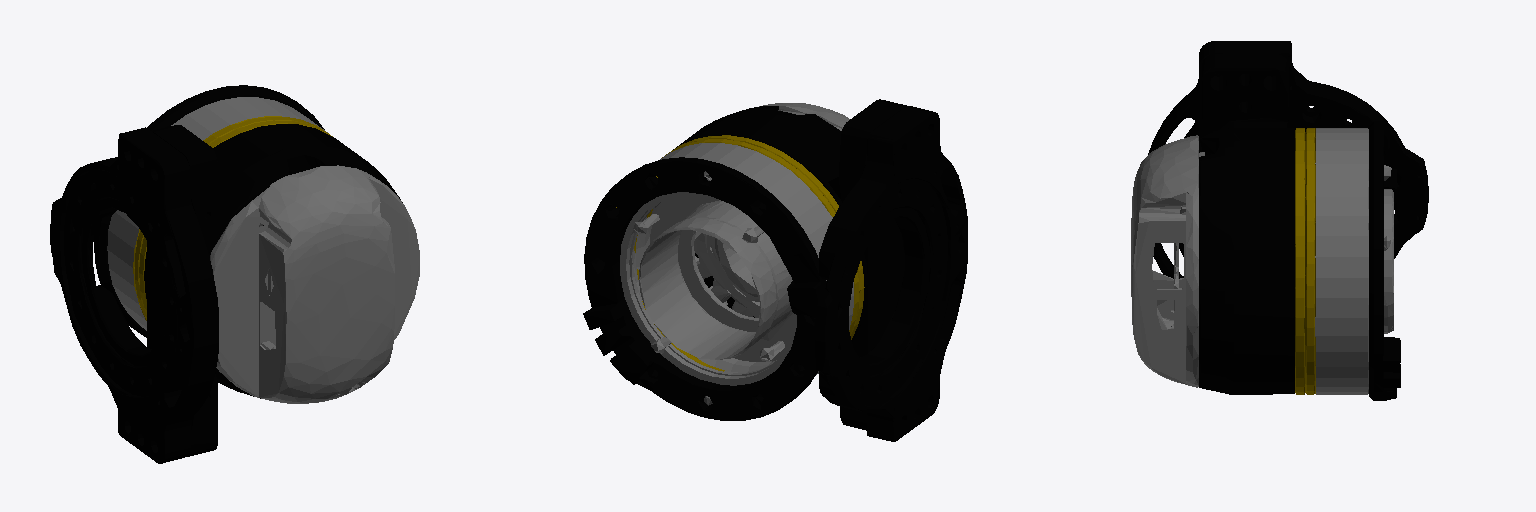
File: right_thigh_roll_link.obj
3 renders of one model, left to right at view 1: azimuth 30°, elevation 25°; view 2: azimuth 150°, elevation 25°; view 3: azimuth 270°, elevation 25°, orthographic.
Visible parts, largest first — view 1: right_thigh_roll_link; view 2: right_thigh_roll_link; view 3: right_thigh_roll_link.
Boxes of the visible parts, <box> form: right_thigh_roll_link: <box>50,85,419,463</box>; right_thigh_roll_link: <box>583,99,967,441</box>; right_thigh_roll_link: <box>1131,41,1428,400</box>.
Size of the model in its own units: 0.0915 by 0.1 by 0.0892.